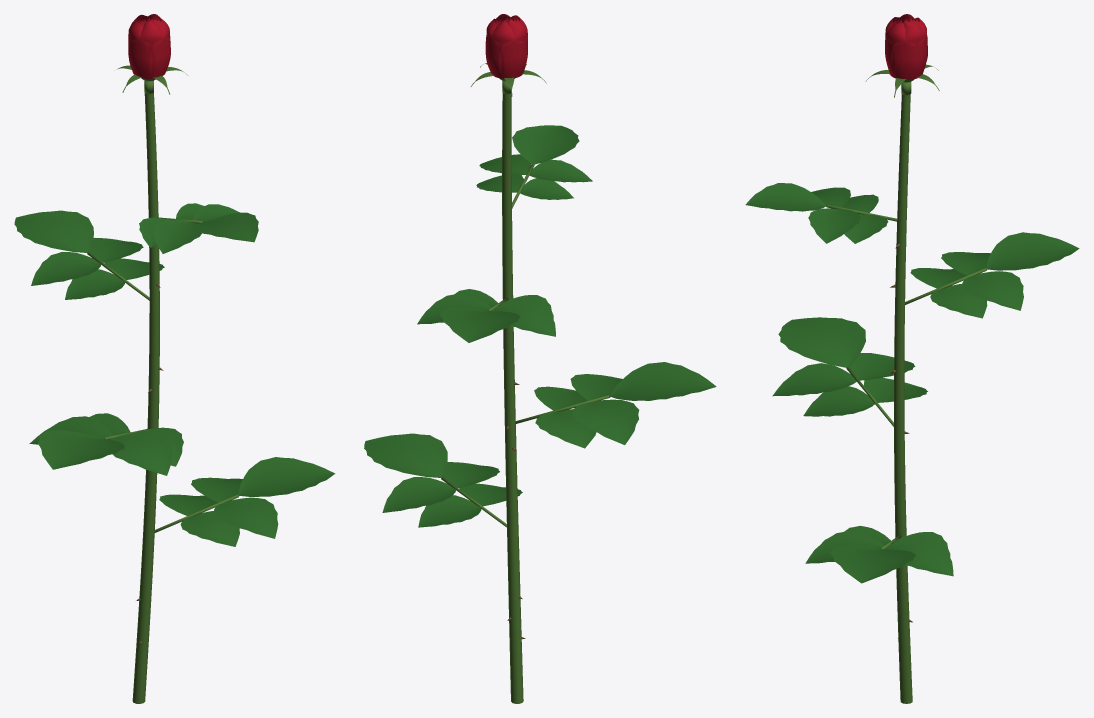
The model's file is rosa_2_cuadrado_punto_corte.obj.
The picture shows the model from 3 angles, left to right: view 1: azimuth 30°, elevation 25°; view 2: azimuth 150°, elevation 25°; view 3: azimuth 270°, elevation 25°; orthographic projection.
Visible parts, largest first — view 1: hoja, tallo, petalo; view 2: hoja, tallo, petalo; view 3: hoja, tallo, petalo.
Part boxes in pixels (box(x1,y1,x2,y2)): hoja: box(14, 203, 335, 546); tallo: box(87, 80, 238, 703); petalo: box(128, 14, 170, 78); hoja: box(364, 125, 716, 527); tallo: box(441, 80, 609, 703); petalo: box(485, 14, 527, 78); hoja: box(745, 183, 1079, 583); tallo: box(826, 82, 986, 703); petalo: box(885, 14, 927, 79).
Size of the model in its own units: 0.3007 by 0.6181 by 0.272.
